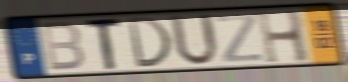B: (39, 20, 87, 73)
D: (125, 16, 175, 69)
H: (255, 8, 314, 66)
T: (84, 15, 123, 72)
U: (168, 13, 221, 69)
Z: (215, 13, 264, 64)
